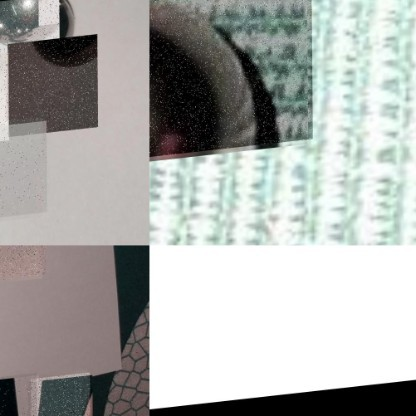ironball: (149, 0, 312, 160), (7, 39, 97, 139), (0, 124, 46, 223), (0, 0, 59, 70), (30, 379, 89, 415), (0, 245, 45, 286), (0, 379, 36, 415)
